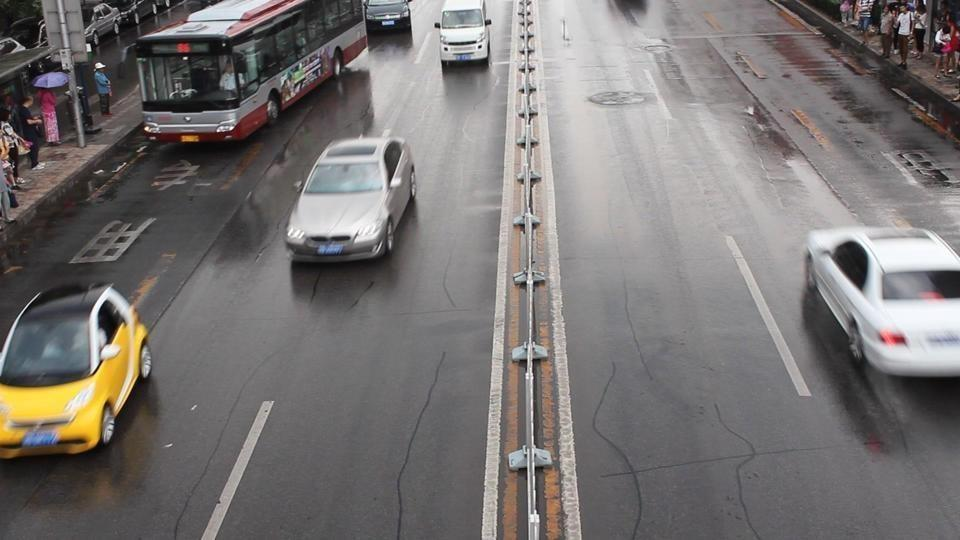car: (0, 282, 154, 458), (800, 225, 960, 379), (284, 136, 418, 263), (437, 2, 493, 66), (365, 0, 413, 33)
